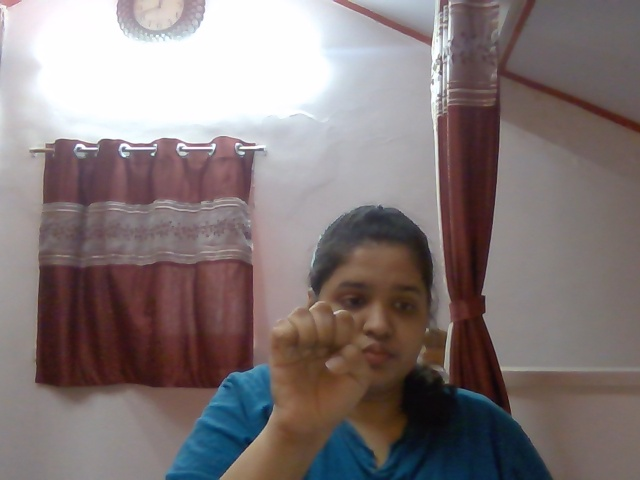s: (249, 289, 406, 440)
